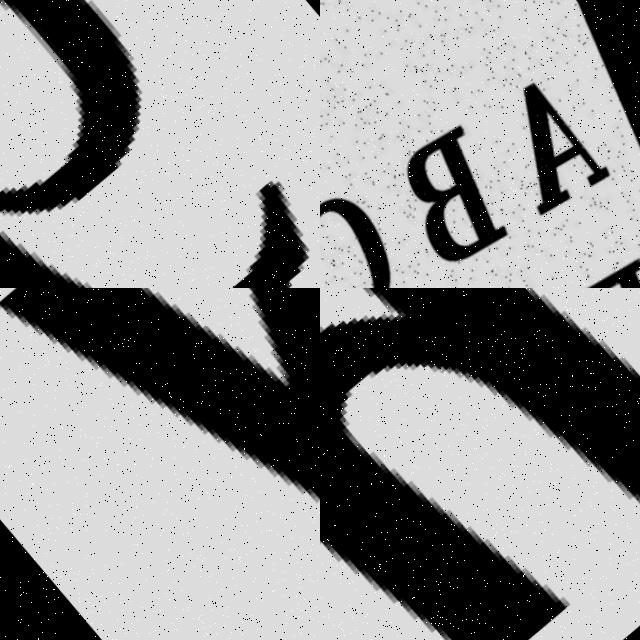0: (379, 0, 549, 37)
9: (0, 0, 320, 288)
H: (320, 288, 640, 640)
Y: (0, 288, 320, 640)
